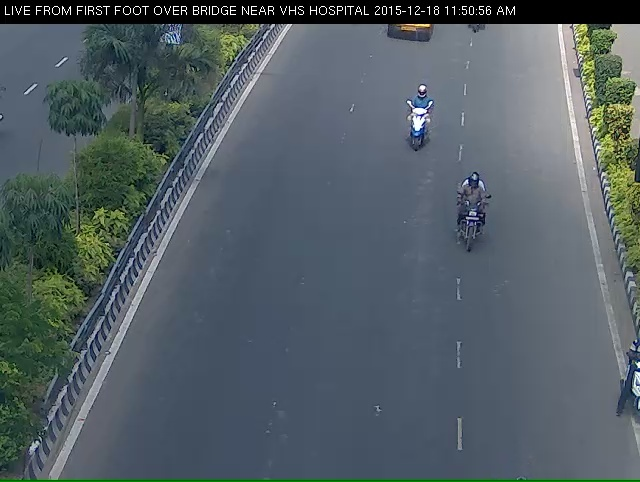Car: (379, 23, 439, 52)
Person: (456, 186, 491, 266), (399, 95, 432, 169)
